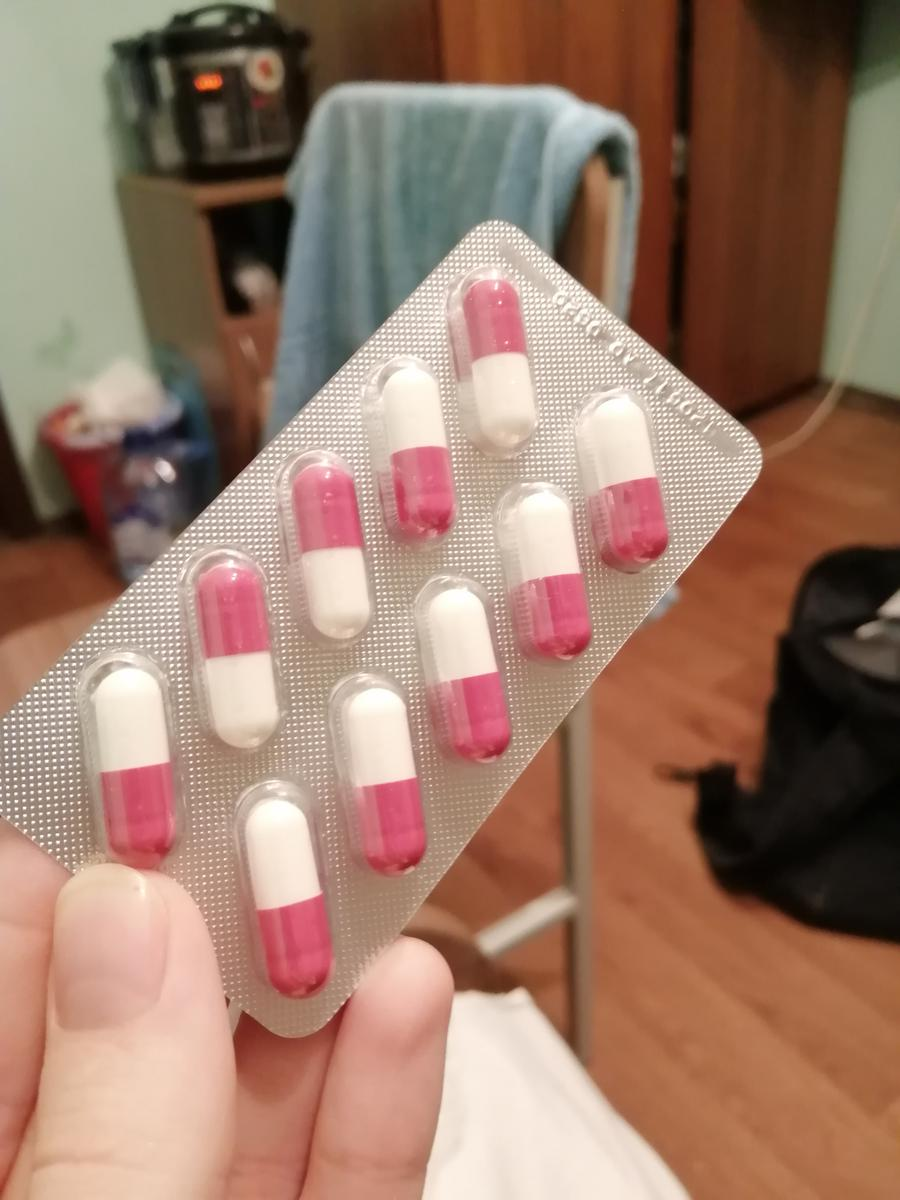capsule: (75, 645, 190, 870), (230, 774, 339, 1000), (325, 661, 430, 875), (410, 574, 516, 766), (280, 450, 382, 641), (189, 550, 285, 751), (574, 380, 672, 574), (495, 482, 595, 663), (452, 272, 545, 456), (367, 358, 460, 538)
